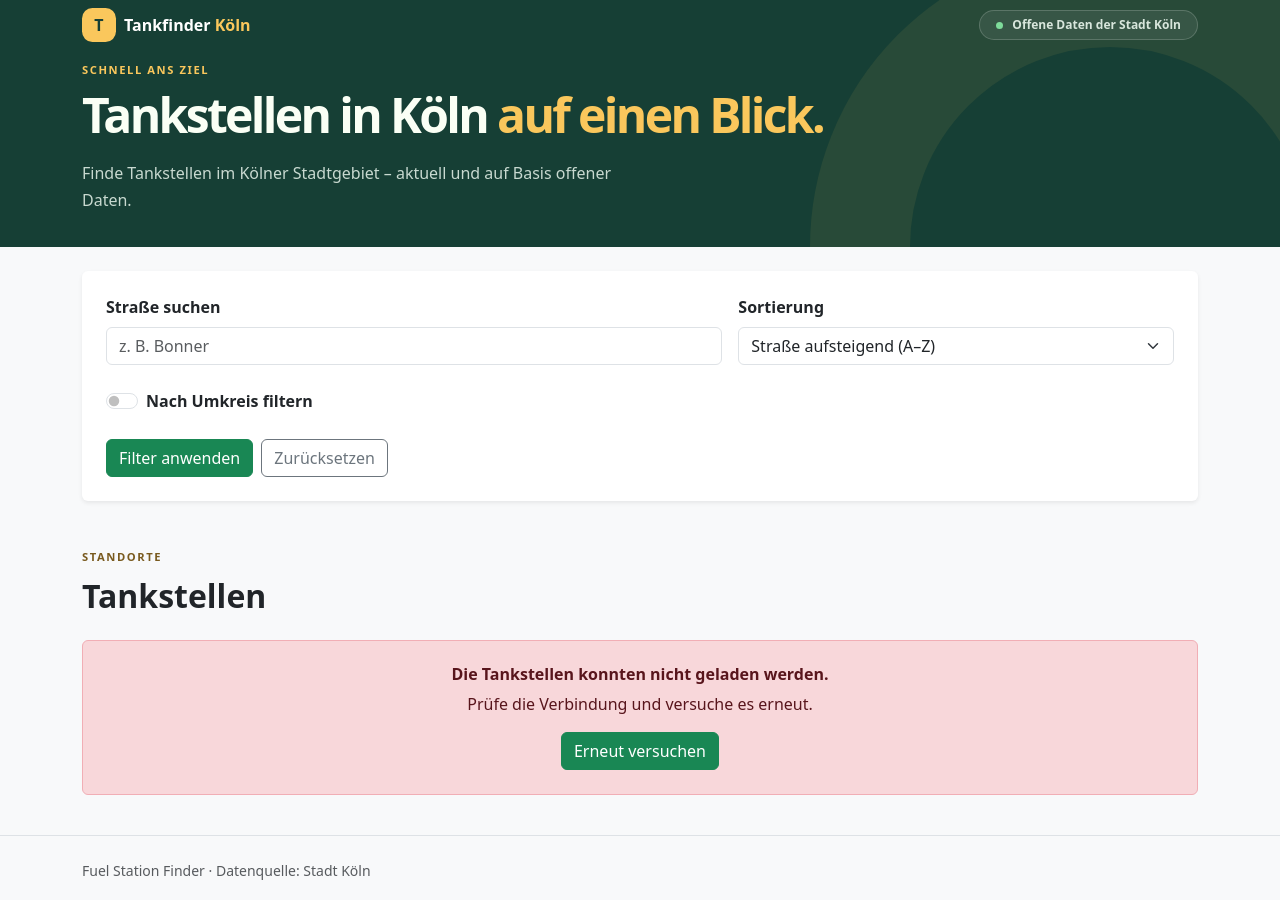
App › allows a failed request to be retried
The width and height of the screenshot is (1280, 900).
What coordinates should you click on to do the following:
click the button "Erneut versuchen"
I would click on:
 (640, 751)
Its box is [561,732,719,770].
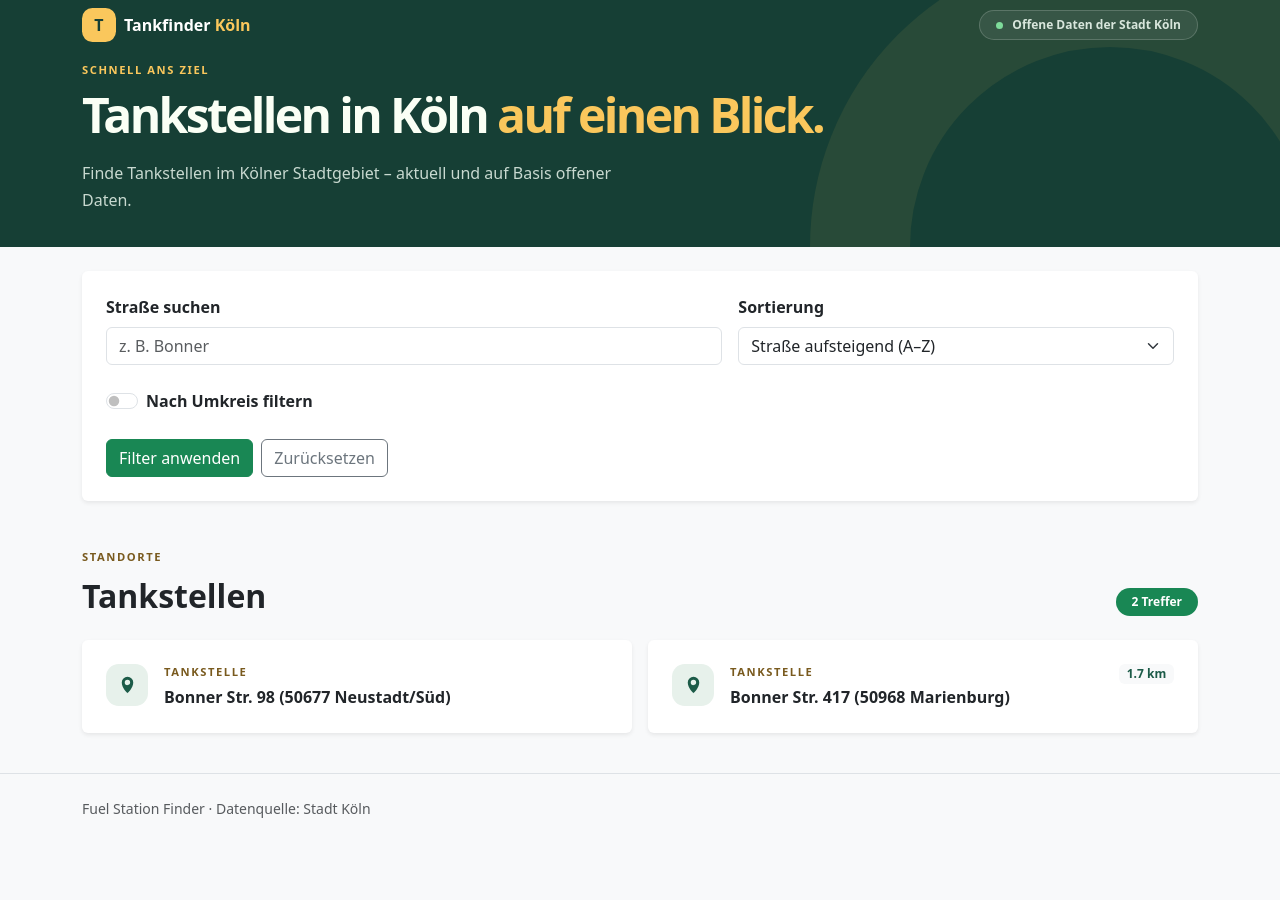
Result: the heading "Bonner Str. 98 (50677 Neustadt/Süd)" is shown at [164,686,451,708]
